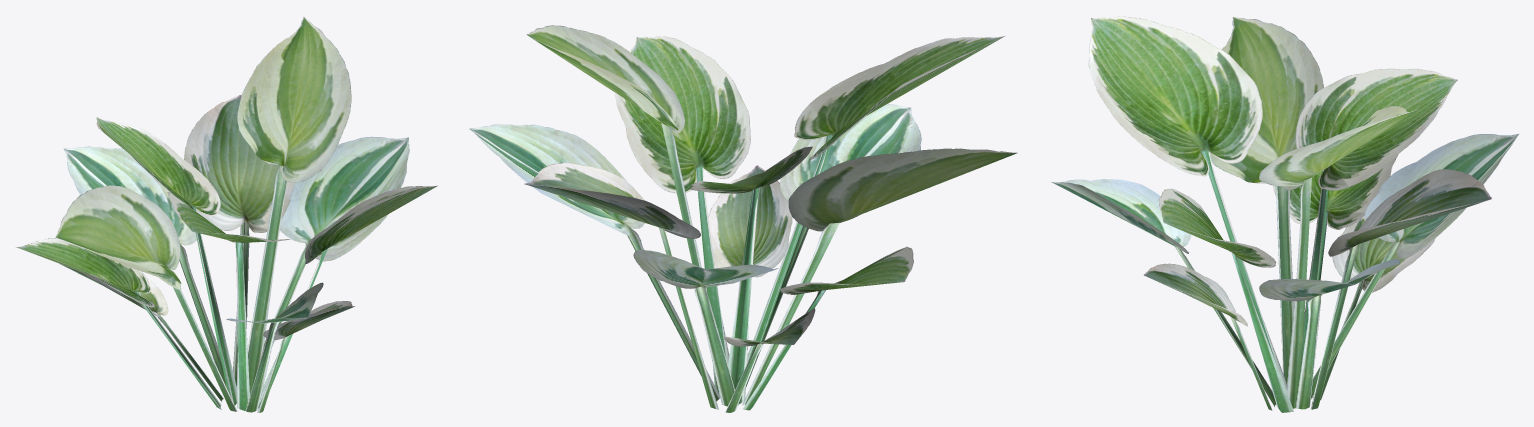
File: plant_small_wg_00Y_wild.fbx
3 views of the same model, side by side, from view 1: azimuth 30°, elevation 25°; view 2: azimuth 150°, elevation 25°; view 3: azimuth 270°, elevation 25° (orthographic). The views are drawn at different scales.
Parts seen in each view (by area): view 1: plant_small_wg_00Y_wild; view 2: plant_small_wg_00Y_wild; view 3: plant_small_wg_00Y_wild.
Part boxes in pixels (x1,y1,x2,y2): plant_small_wg_00Y_wild: [16, 17, 437, 412]; plant_small_wg_00Y_wild: [469, 25, 1017, 412]; plant_small_wg_00Y_wild: [1051, 16, 1518, 412].
Size of the model in its own units: 71.16 by 53.25 by 62.72.
